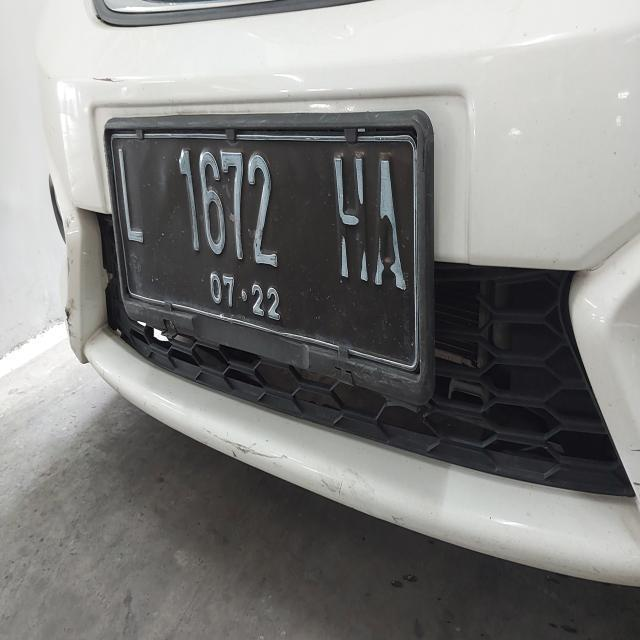1: (173, 136, 207, 260)
2: (240, 142, 288, 278)
6: (194, 133, 230, 264)
7: (218, 135, 254, 271)
A: (366, 148, 411, 304)
H: (326, 140, 378, 305)
L: (110, 140, 156, 254)
